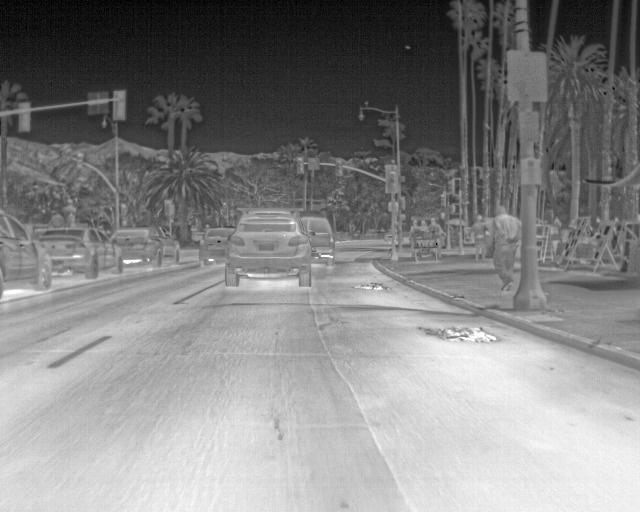bicycle: (221, 205, 314, 288), (32, 223, 124, 281), (0, 208, 55, 290), (108, 227, 183, 269), (297, 214, 339, 269), (197, 226, 236, 268)
empty: (488, 204, 521, 292), (469, 212, 491, 262), (427, 216, 445, 237), (406, 217, 420, 235), (417, 217, 430, 233)
